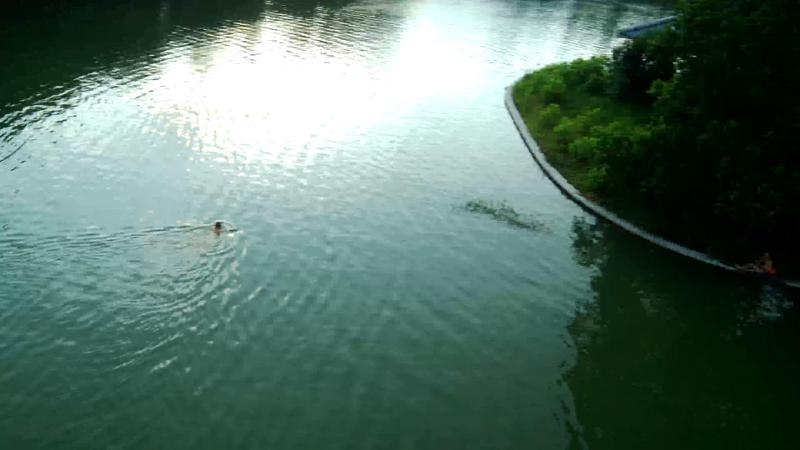passerby: (210, 220, 227, 235)
sus_swimmers: (734, 251, 774, 274)
